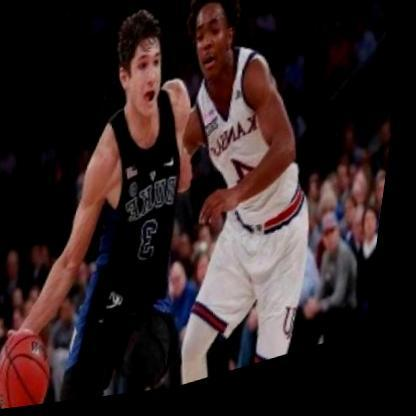basketball: (0, 310, 81, 413)
